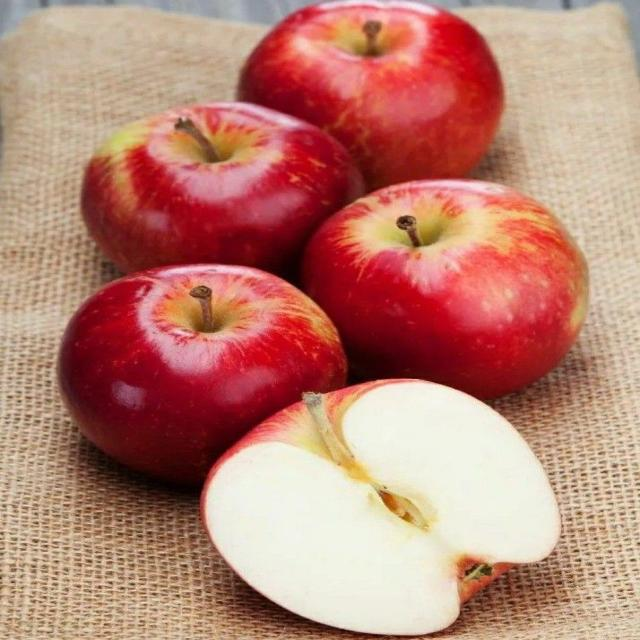apple: (202, 380, 560, 635), (59, 265, 345, 485), (303, 181, 588, 398), (238, 0, 503, 188), (82, 103, 363, 274)
